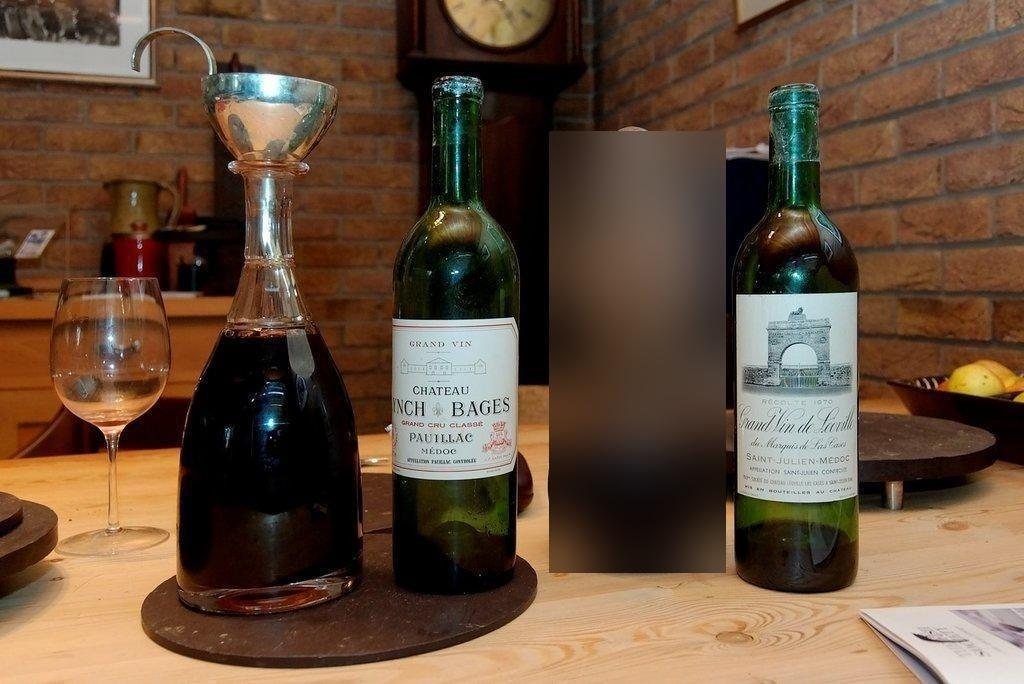bottle-glass: (175, 166, 372, 613), (381, 72, 531, 597), (727, 85, 869, 594)
glass-wine: (51, 273, 170, 559)
